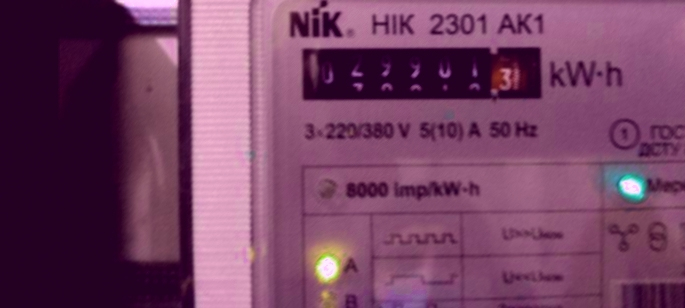0: (317, 57, 335, 84), (436, 50, 452, 79)
1: (467, 49, 480, 77)
2: (347, 51, 365, 78)
3: (496, 64, 513, 90)
9: (377, 51, 393, 78), (408, 52, 421, 79)
screen: (292, 36, 552, 109)
